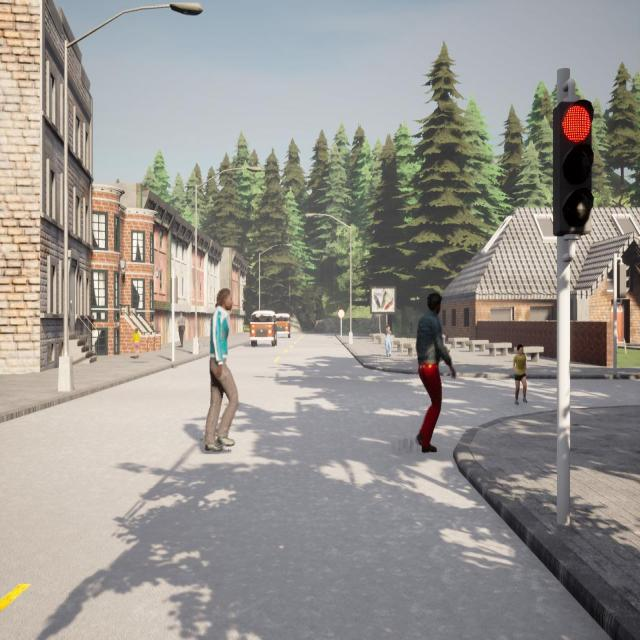Pedestrian: (413, 289, 455, 452), (203, 288, 240, 452), (511, 343, 530, 406), (131, 328, 142, 360), (177, 310, 186, 347), (384, 325, 393, 358)
Traffic_Signs: (338, 309, 344, 318)
Vehicle: (250, 310, 276, 347), (275, 314, 291, 338)
traffic_light: (553, 99, 593, 236), (617, 265, 630, 298)
